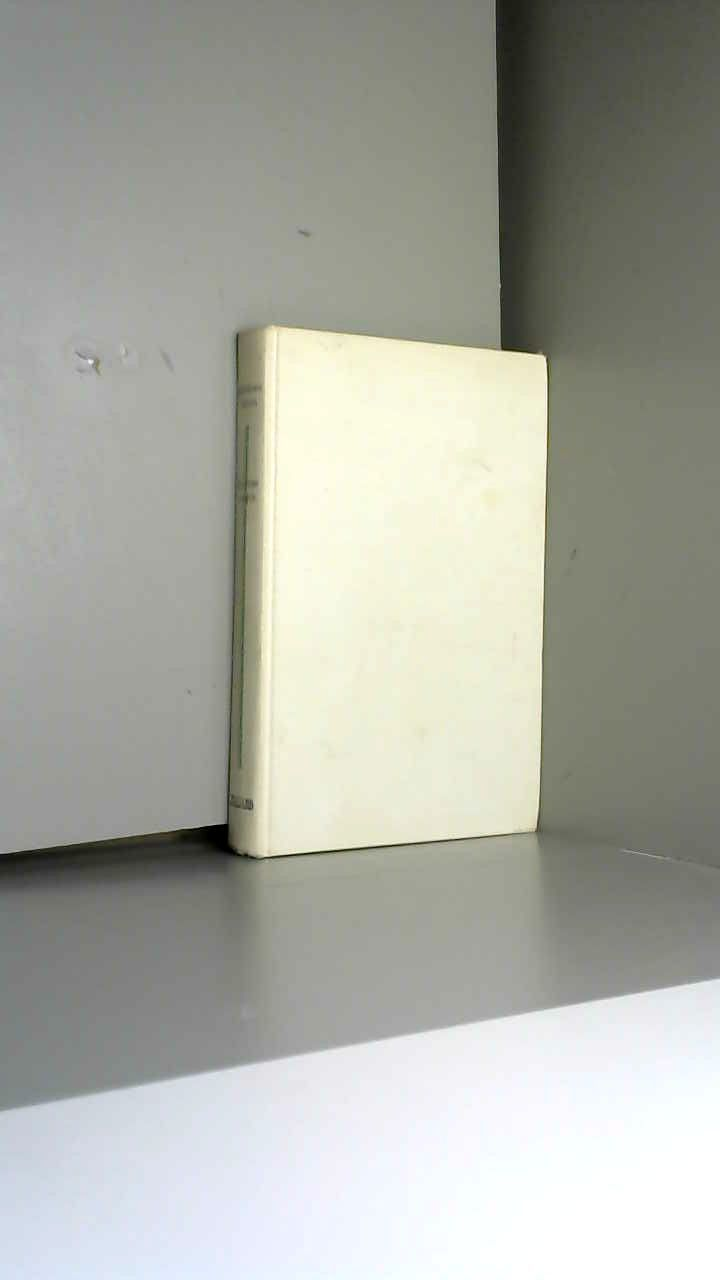book: (186, 290, 602, 910)
